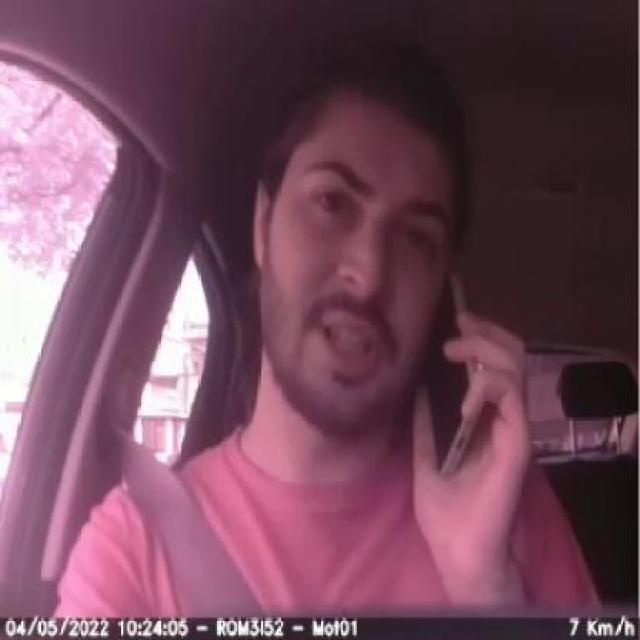using_phone: (288, 223, 568, 530)
